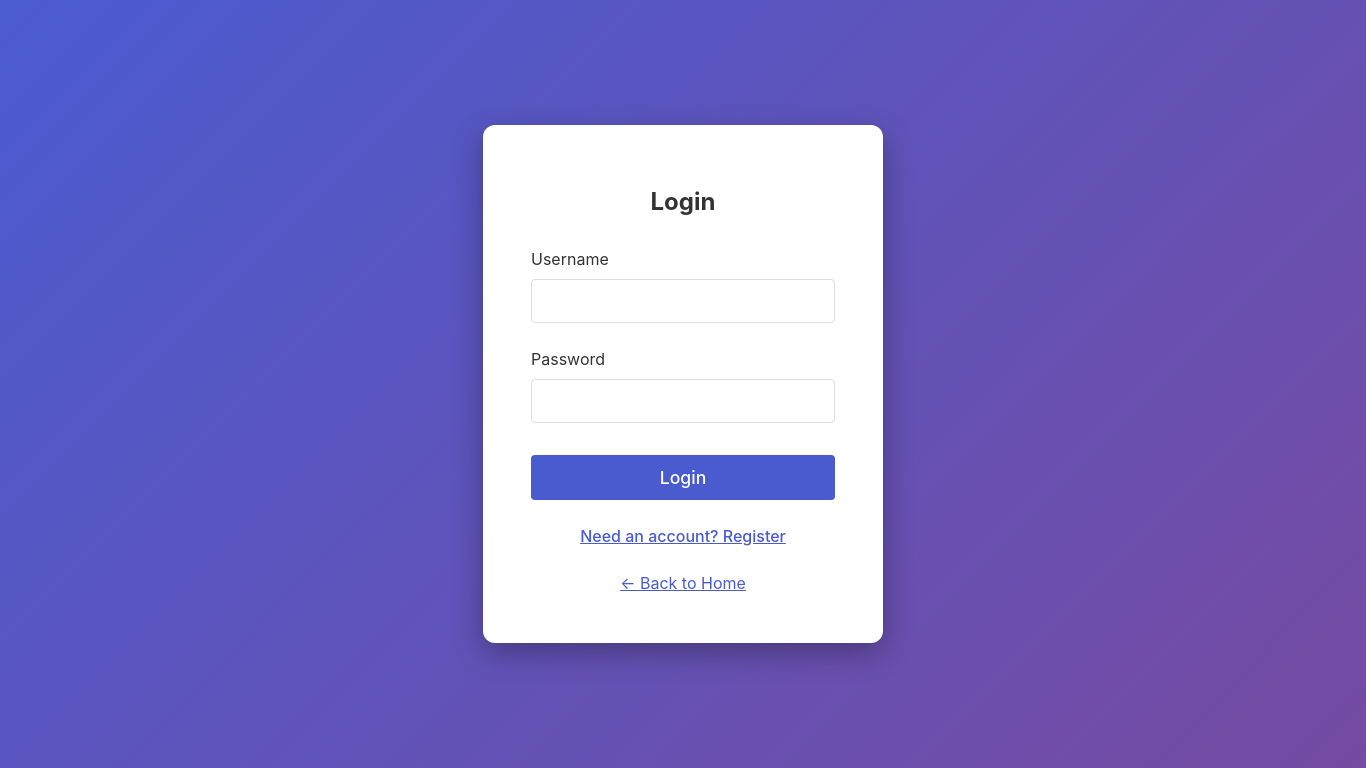
Test: AuthPage › does not send a username that breaks the rule, and says why
Click the button "Need an account? Register" at (683, 536), box left=561, top=516, right=805, bottom=555
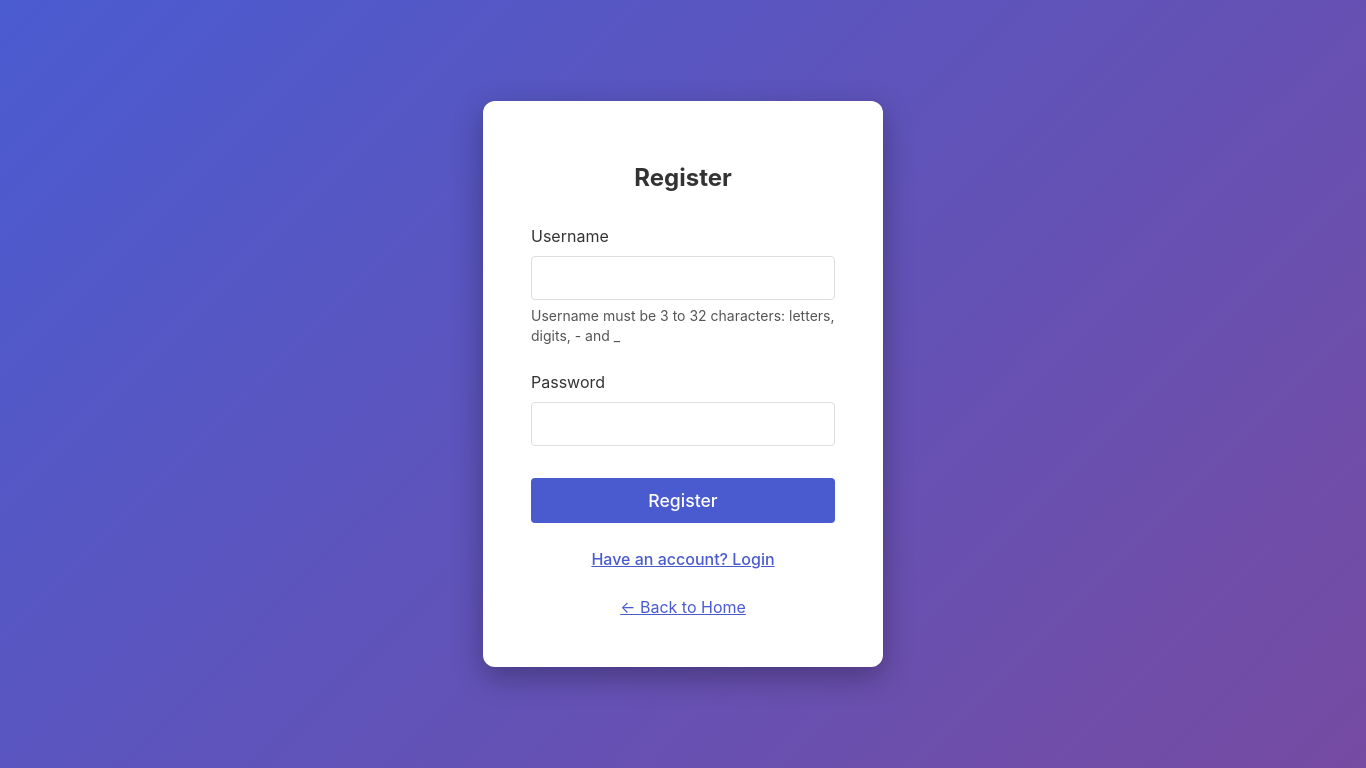
Type "not a name" into the field labelled "Username" at (683, 278), box left=531, top=256, right=835, bottom=300
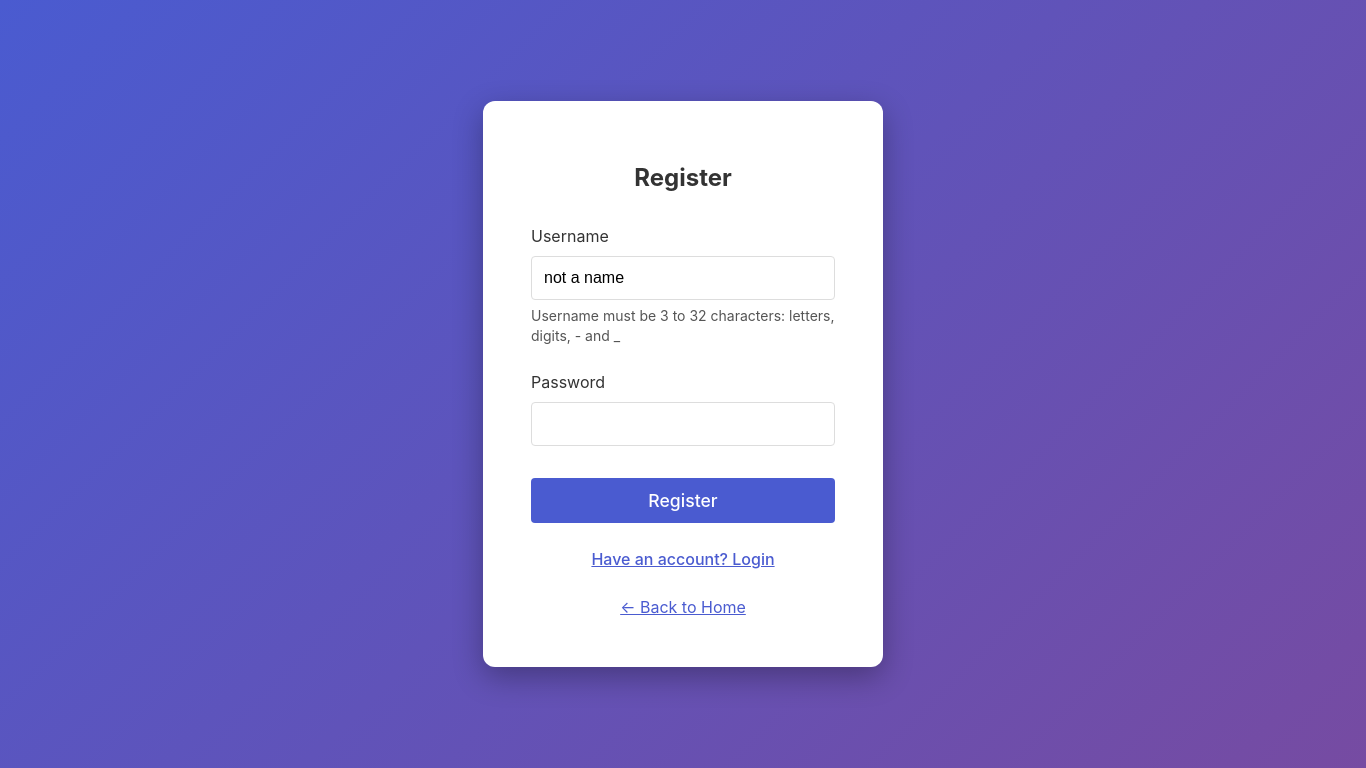
Type "long-enough-password" into the password field labelled "Password" at (683, 424), box left=531, top=402, right=835, bottom=446
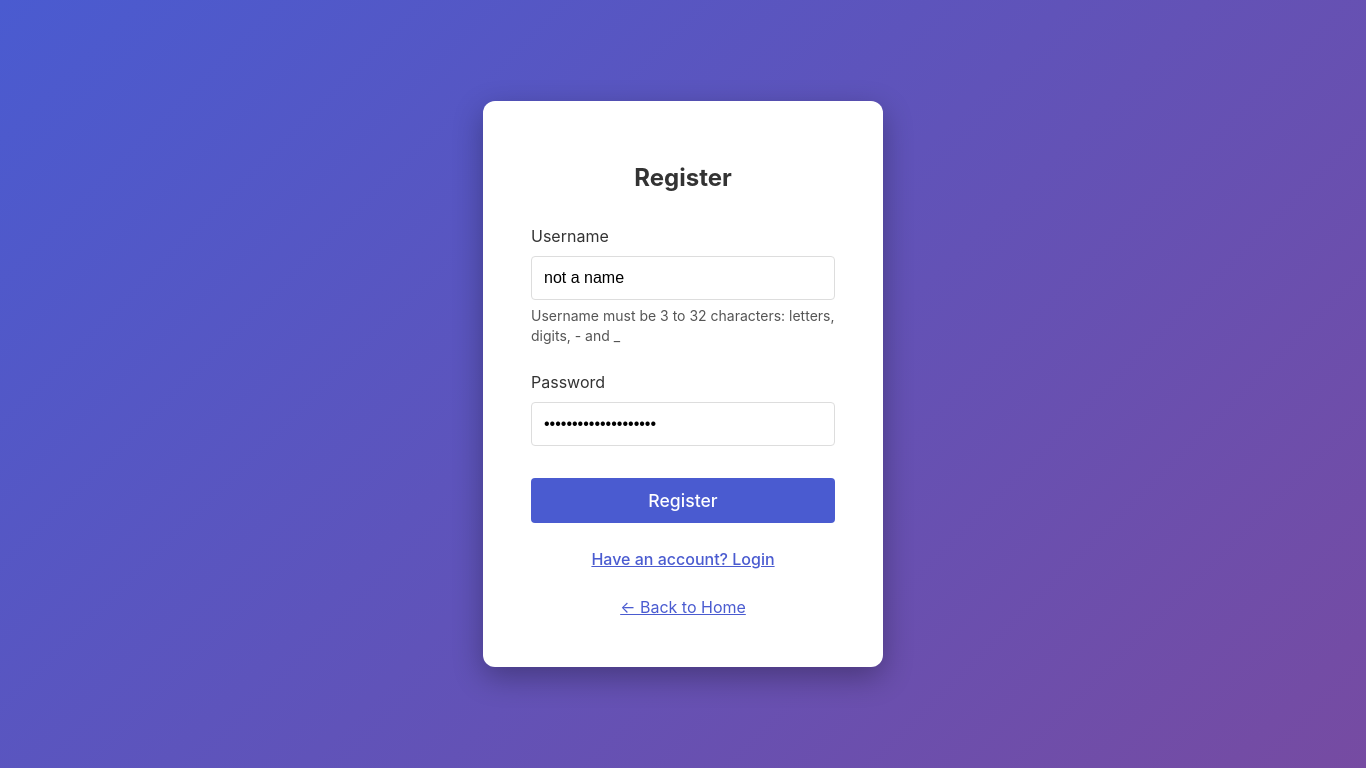
Click the button "Register" at (683, 501), box left=531, top=478, right=835, bottom=523
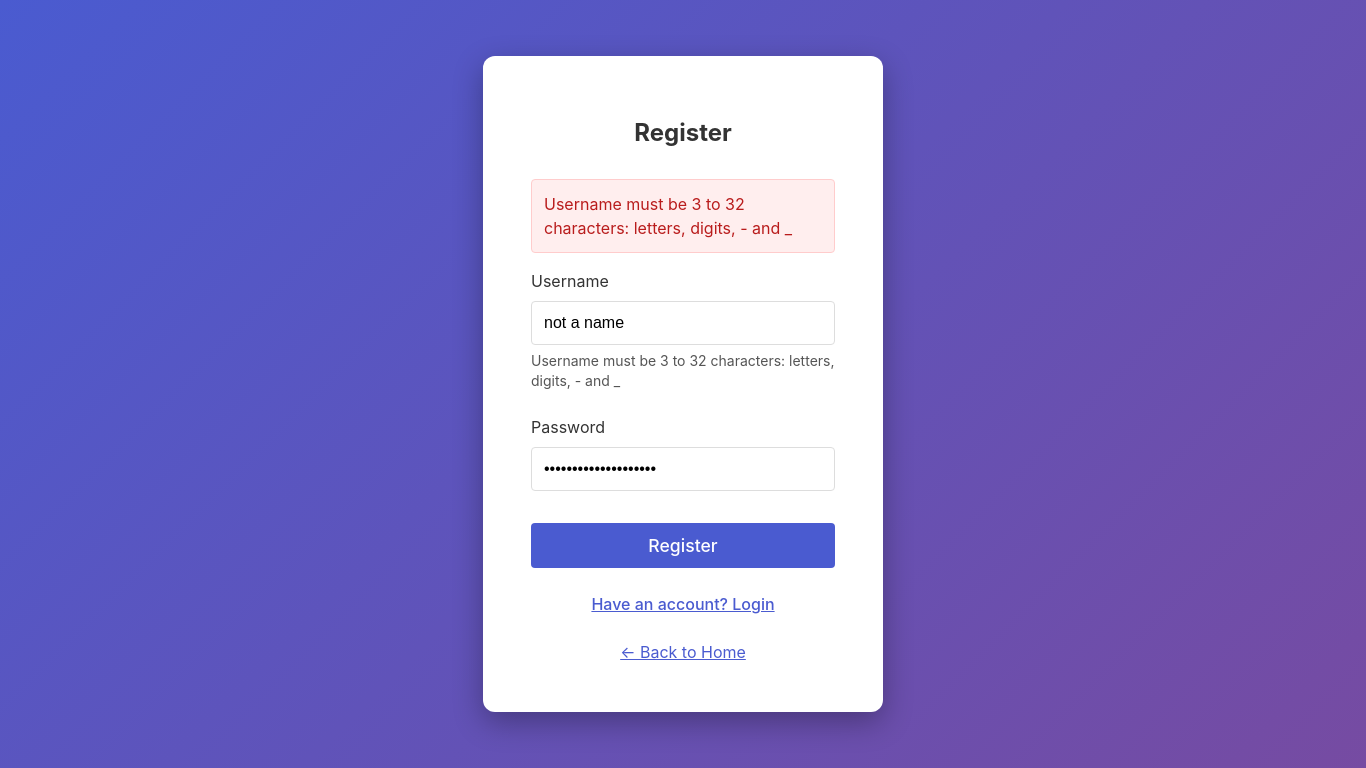
Result: the message reads "Username must be 3 to 32 characters: letters, digits, - and _" at left=544, top=194, right=792, bottom=238
